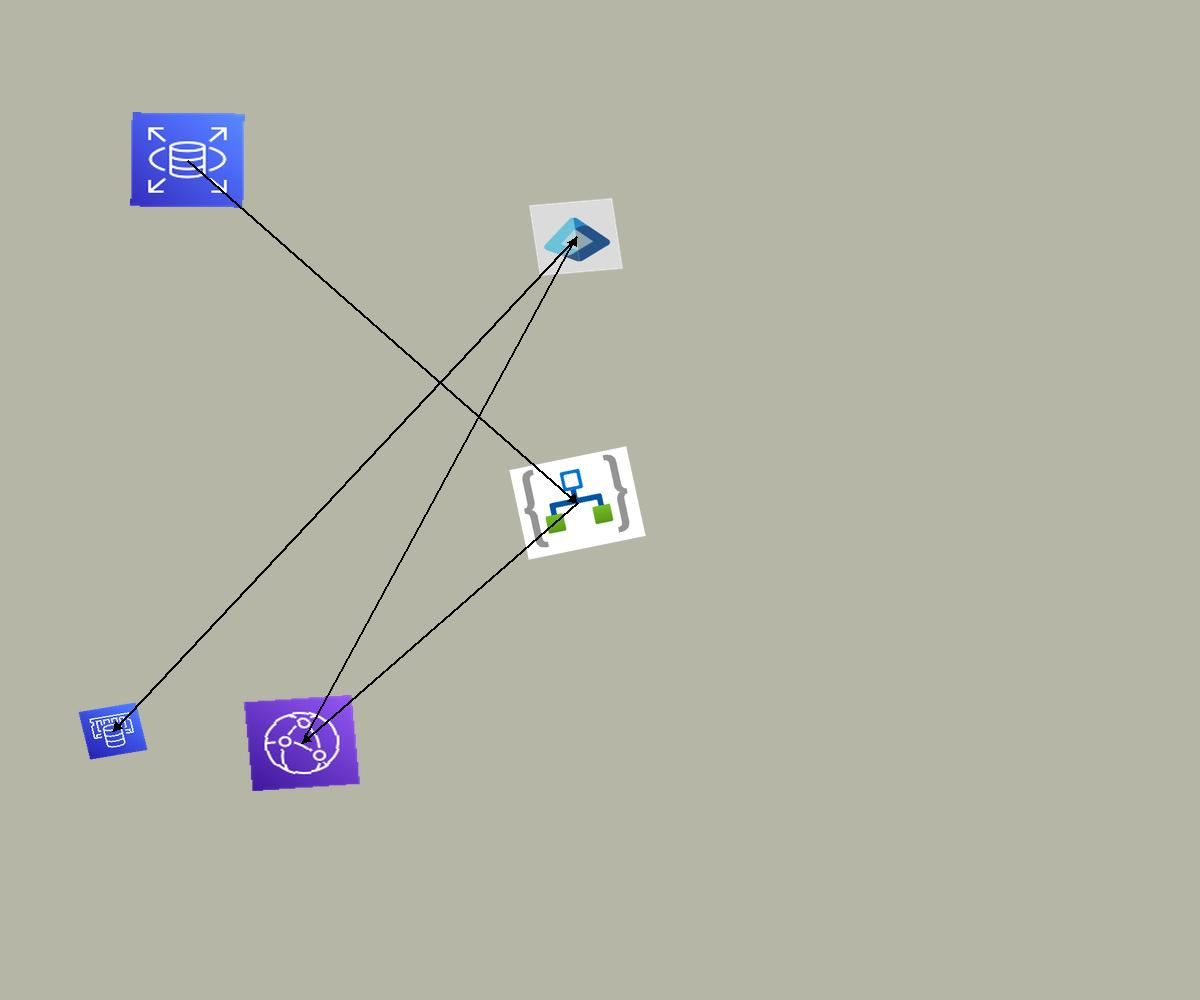AWS-CloudFront: (243, 694, 361, 792)
AWS-ElastiCache: (78, 702, 148, 760)
AWS-RDS: (130, 112, 245, 208)
Azure_integration-204-Logic-Apps: (509, 446, 646, 560)
Azure_microsoft_entra: (529, 198, 623, 276)
